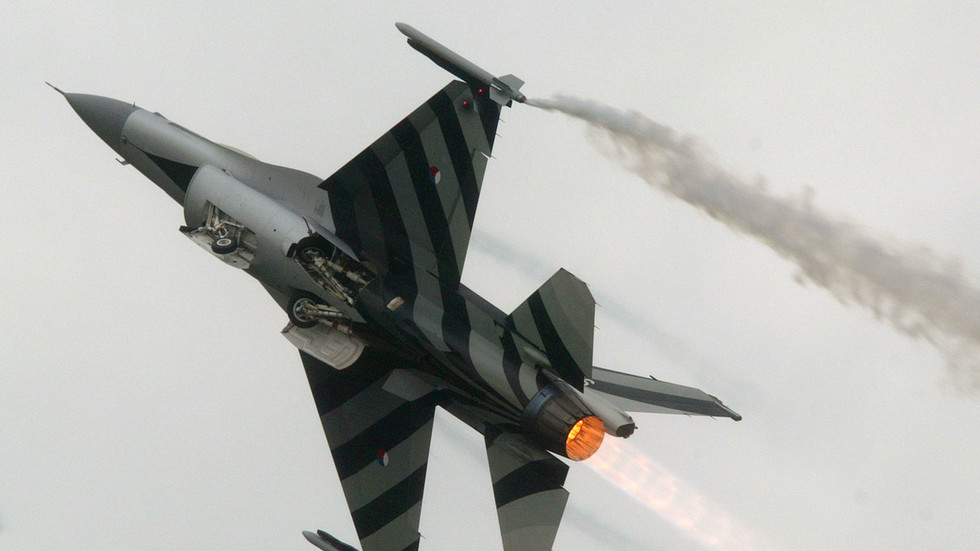airplane: (22, 15, 744, 540)
